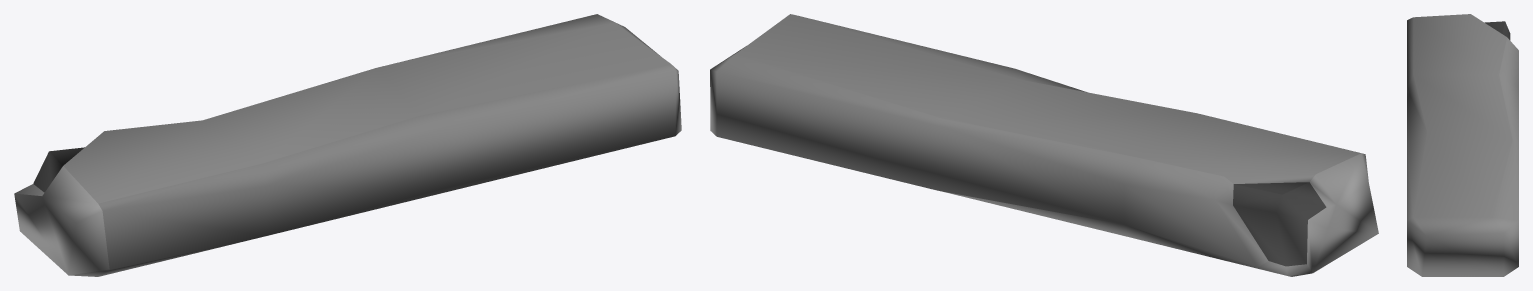
The model's file is Slab_03.fbx.
3 views of the same model, side by side, from view 1: azimuth 30°, elevation 25°; view 2: azimuth 150°, elevation 25°; view 3: azimuth 270°, elevation 25° (orthographic). The views are drawn at different scales.
Visible parts, largest first — view 1: Cube.004; view 2: Cube.004; view 3: Cube.004.
Boxes of the visible parts, x1,y1,x2,y2 form: Cube.004: (14, 14, 681, 276); Cube.004: (710, 14, 1378, 276); Cube.004: (1407, 14, 1518, 276).
Bounding box in the file's own units: 398 × 50.84 × 87.66.
